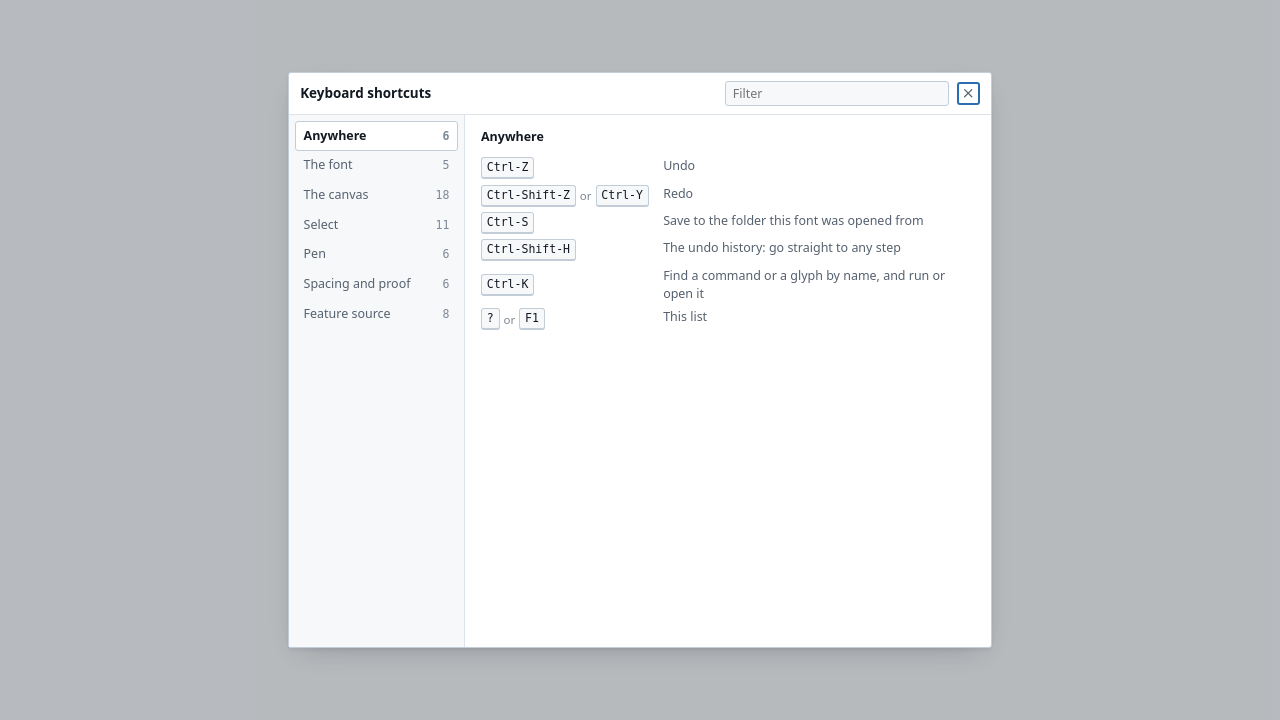
it: the sheet › filters every place at once, and says how much each one has left
The width and height of the screenshot is (1280, 720).
Type "kern" into the search field named "Filter the shortcuts" at (837, 93), box [725,81,949,106]
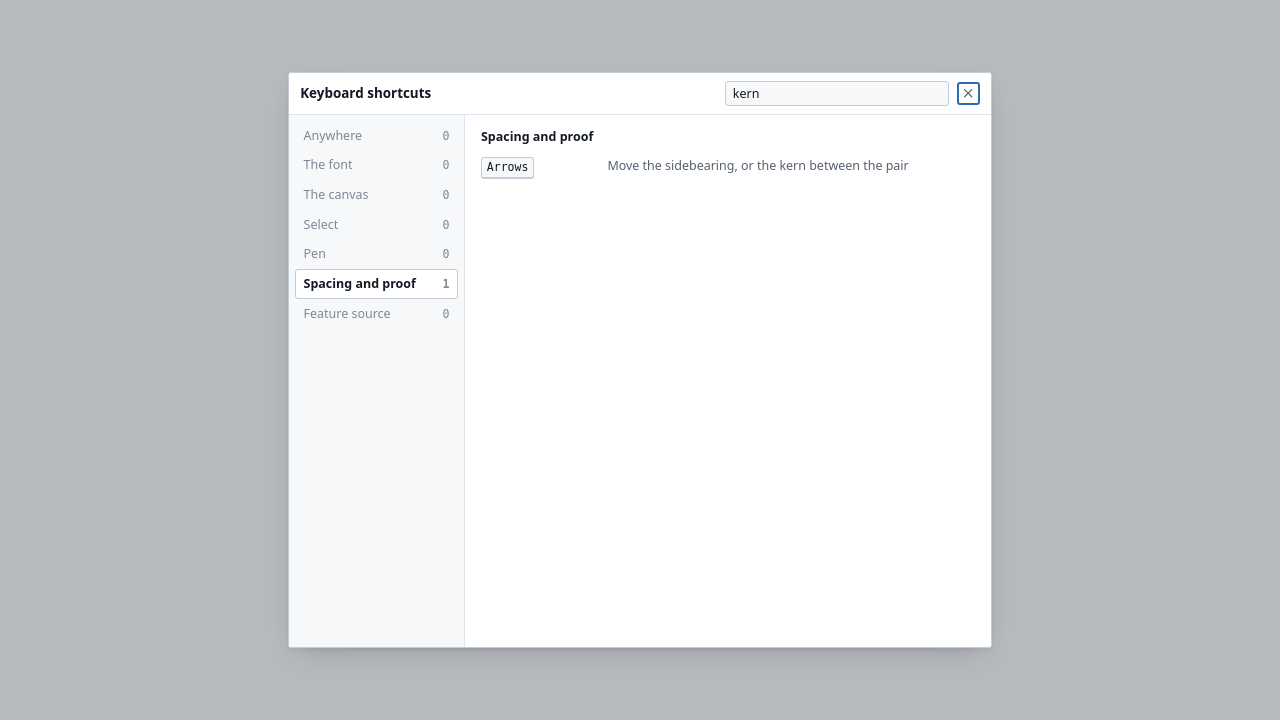
Expected: the text "Move the sidebearing, or the kern between the pair" is shown, [607,158,909,174]
